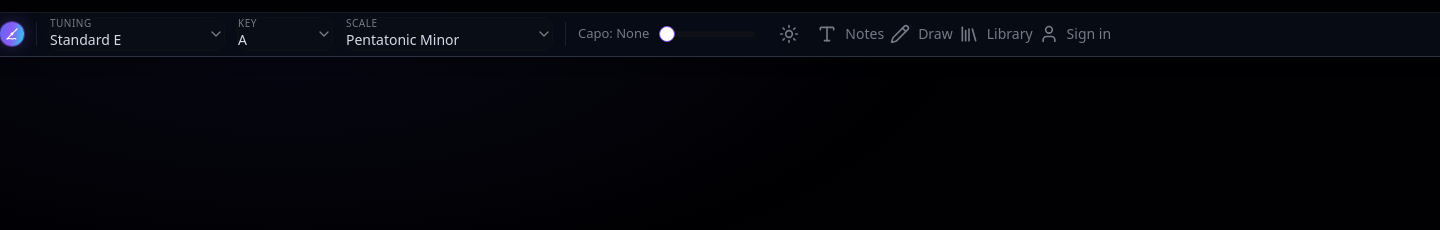
ControlBar › selecting Drop D from TuningSelect updates the store
Click the dropdown labelled "Tuning" at (137,34), box [49,17,225,51]
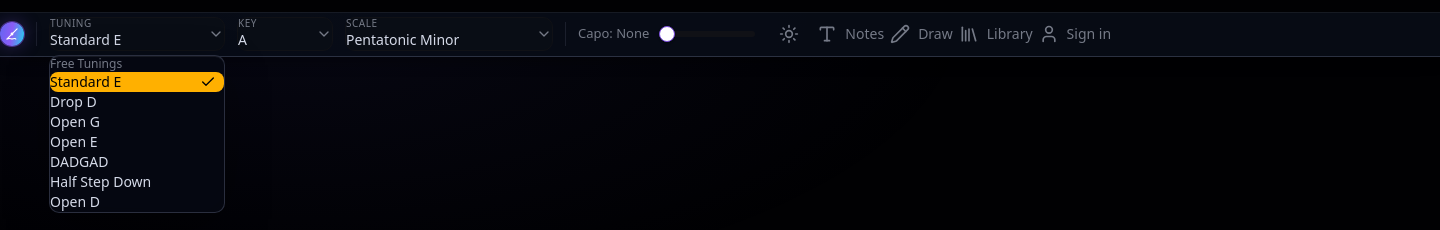
Click the option "Drop D" at (73,102), box [50,92,97,111]
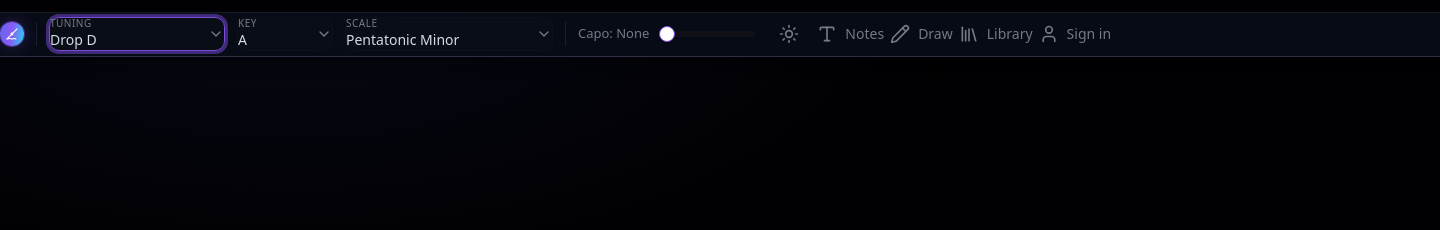
Expected: the text "Drop D" is shown, [50,30,97,50]
